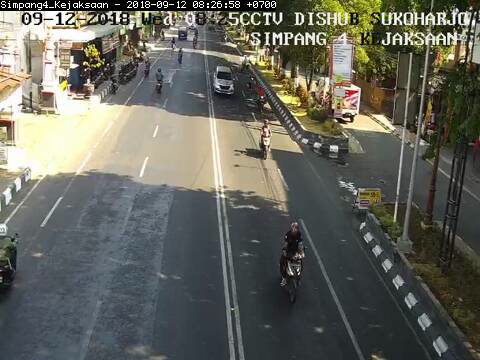motor: (279, 220, 306, 304), (256, 117, 274, 159)
